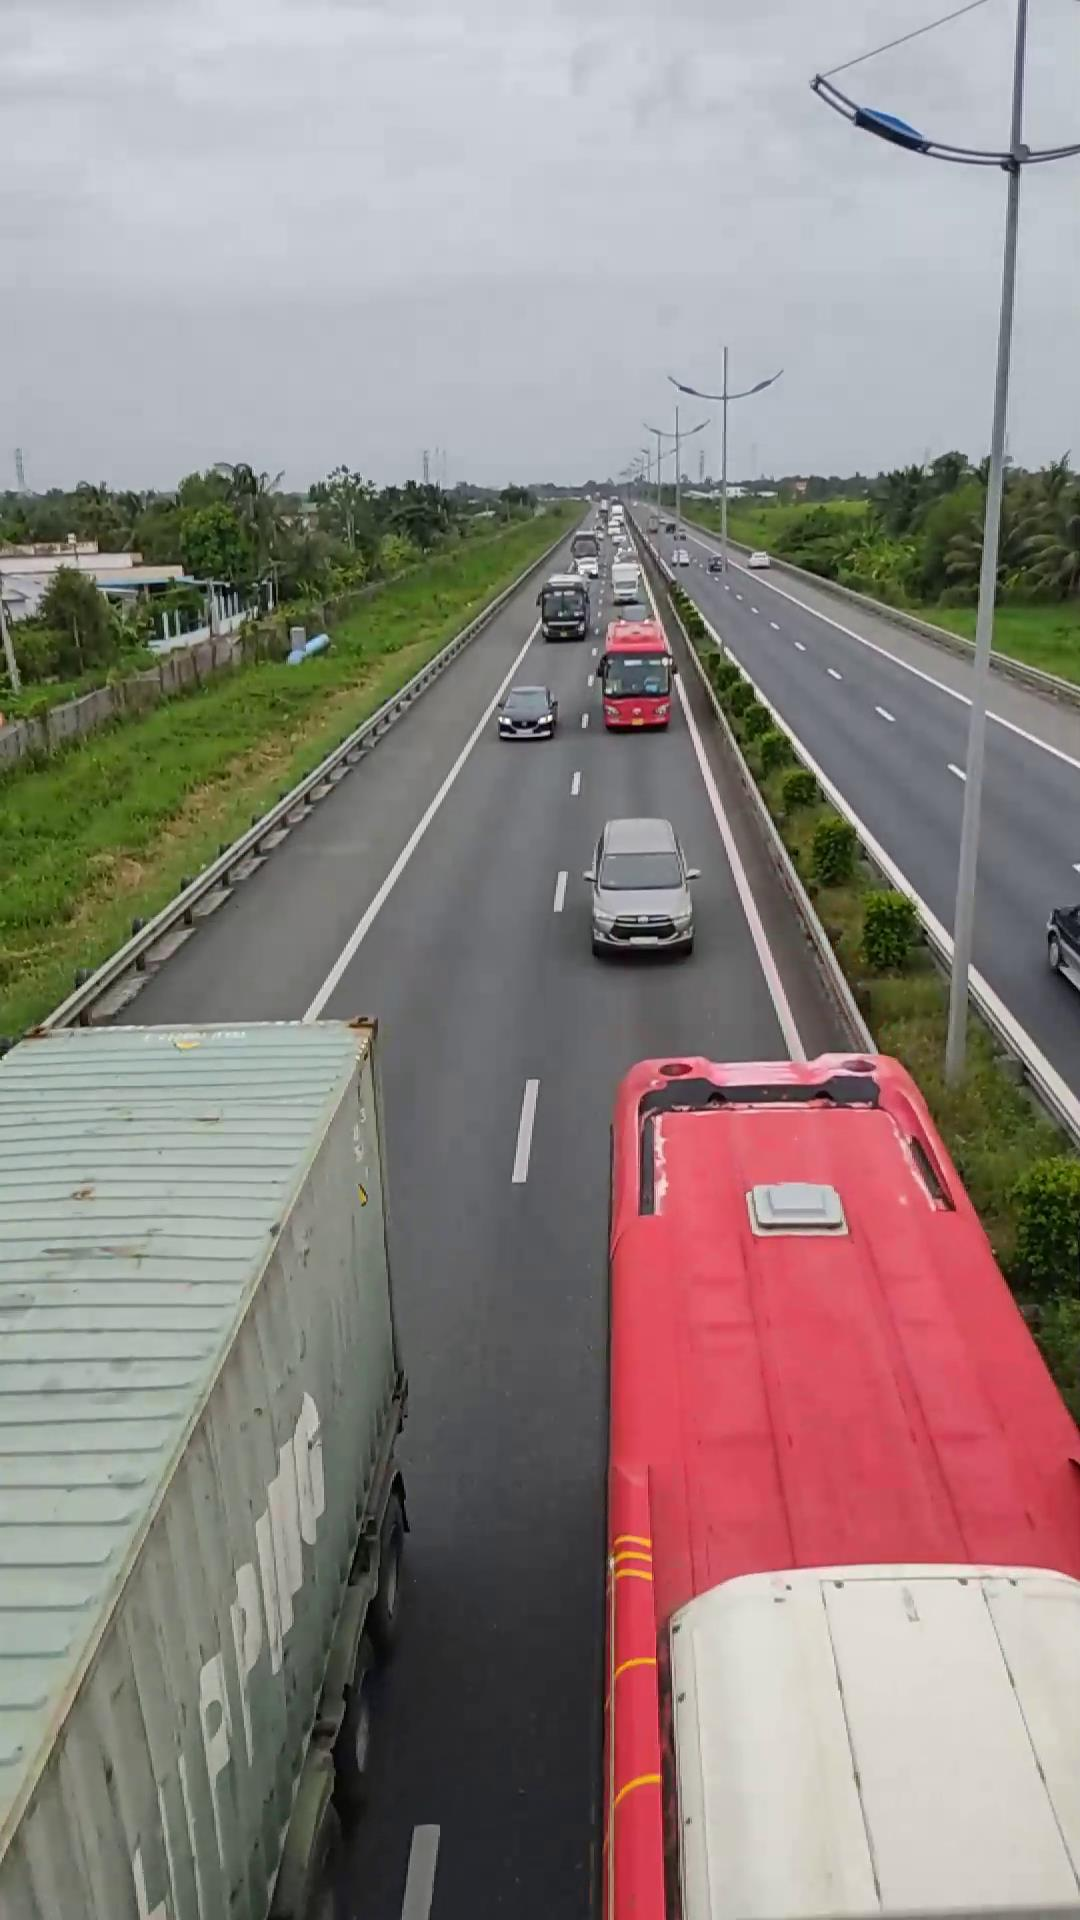bus: (607, 1050, 1080, 1913)
car: (584, 816, 699, 956)
container: (0, 1010, 421, 1916)
